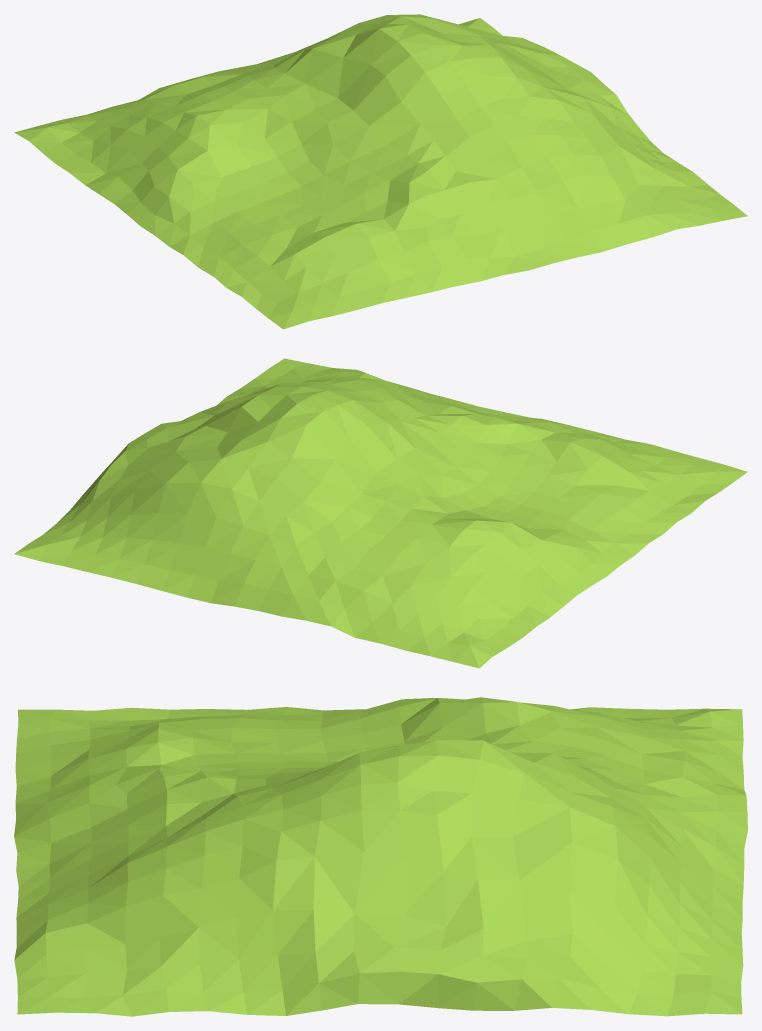
The model's file is forest-biome-top.glb.
3 views of the same model, one above another, from view 1: azimuth 30°, elevation 25°; view 2: azimuth 150°, elevation 25°; view 3: azimuth 270°, elevation 25° (orthographic). The views are drawn at different scales.
Visible parts, largest first — view 1: Landscape-JAGGY.001; view 2: Landscape-JAGGY.001; view 3: Landscape-JAGGY.001.
Part boxes in pixels (x1,y1,x2,y2): Landscape-JAGGY.001: [14, 14, 747, 329]; Landscape-JAGGY.001: [14, 358, 747, 668]; Landscape-JAGGY.001: [14, 697, 747, 1016].
Bounding box in the file's own units: 2 × 0.4504 × 2.
